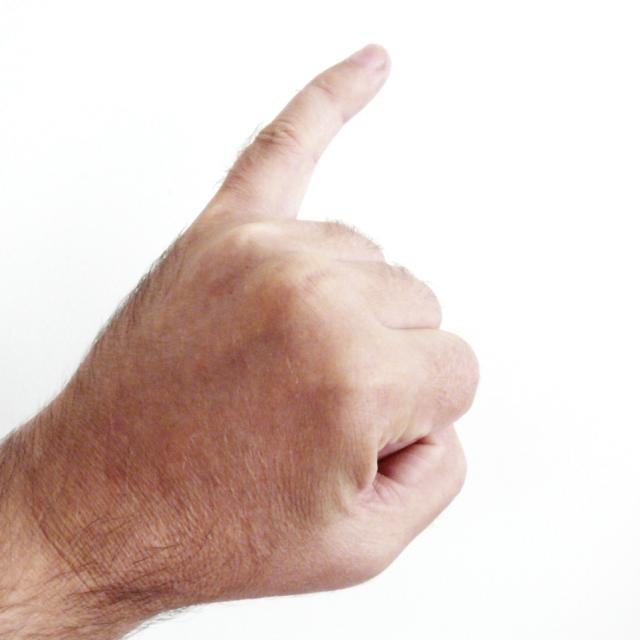pinky: (205, 21, 406, 222)
